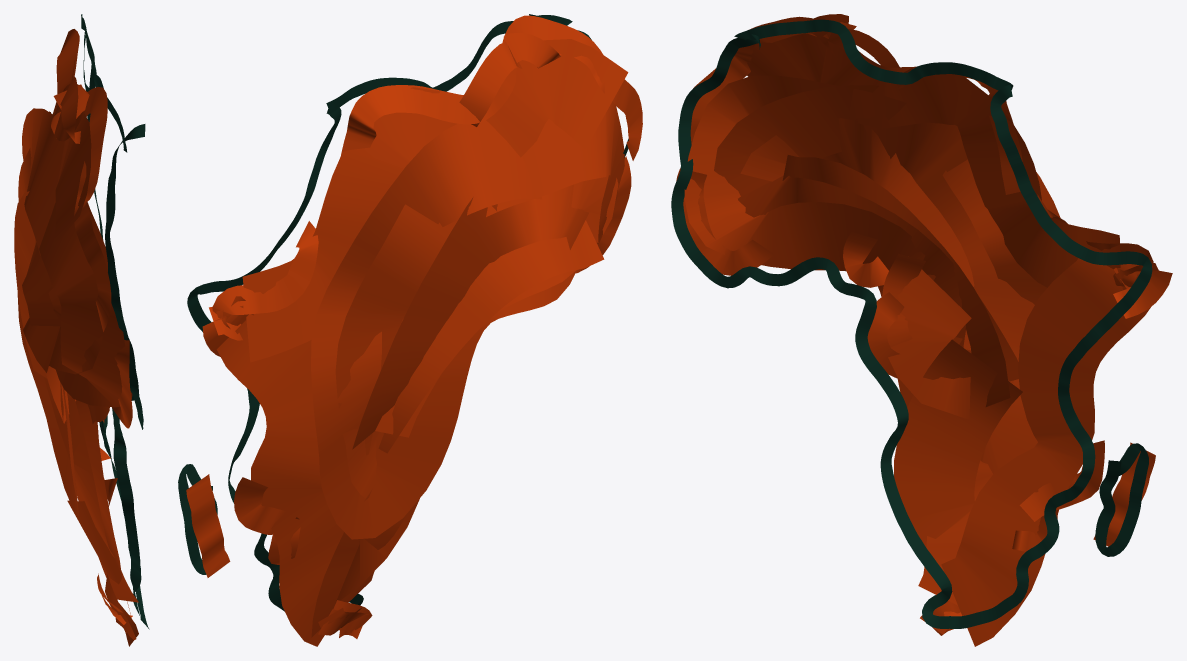
File: africa.fbx
3 renders of one model, left to right at view 1: azimuth 30°, elevation 25°; view 2: azimuth 150°, elevation 25°; view 3: azimuth 270°, elevation 25°, orthographic. The views are drawn at different scales.
Parts seen in each view (by area): view 1: Untitled_7_Flat_geo; view 2: Untitled_7_Flat_geo; view 3: Untitled_7_Flat_geo.
Boxes of the visible parts, left/top/right/bottom form: Untitled_7_Flat_geo: left=14, top=14, right=149, bottom=646; Untitled_7_Flat_geo: left=178, top=14, right=642, bottom=646; Untitled_7_Flat_geo: left=671, top=14, right=1172, bottom=646.
Bounding box in the file's own units: 0.2664 × 0.6289 × 0.4961.
